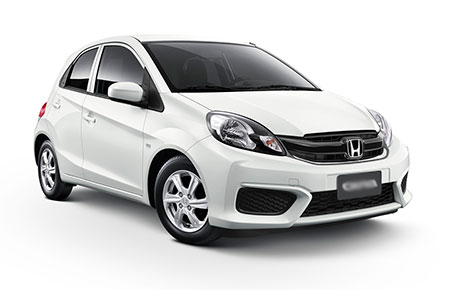sedan: (31, 32, 416, 246)
